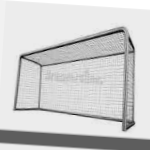goals: (12, 24, 137, 132)
